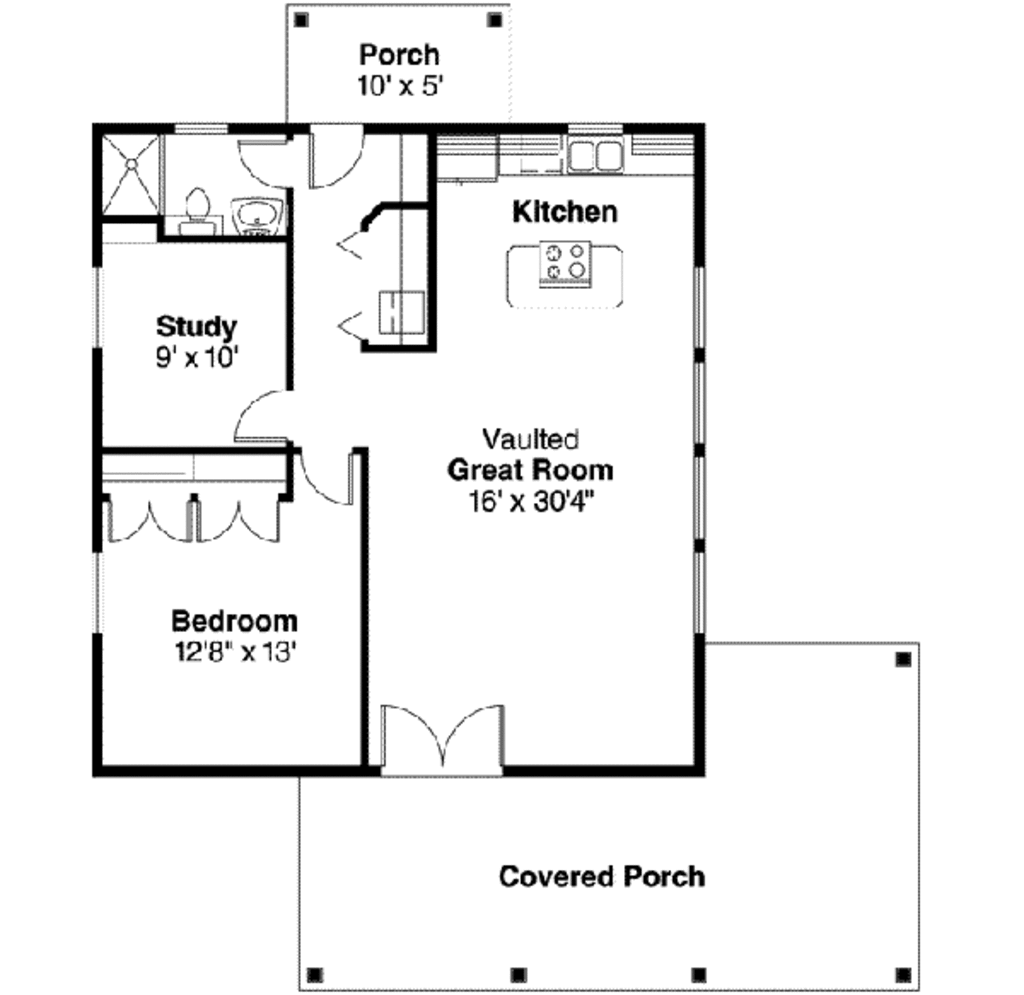door: (360, 693, 529, 782), (105, 487, 198, 556), (188, 494, 286, 545), (229, 130, 302, 188), (229, 388, 294, 448), (308, 124, 366, 190), (297, 445, 355, 507)
kitchen_bar: (482, 213, 648, 319)
large_sink: (171, 182, 212, 239)
small_sink: (225, 188, 294, 247)
twin_sink: (565, 133, 626, 187)
window: (685, 261, 717, 636), (80, 259, 115, 353), (172, 111, 237, 153)
